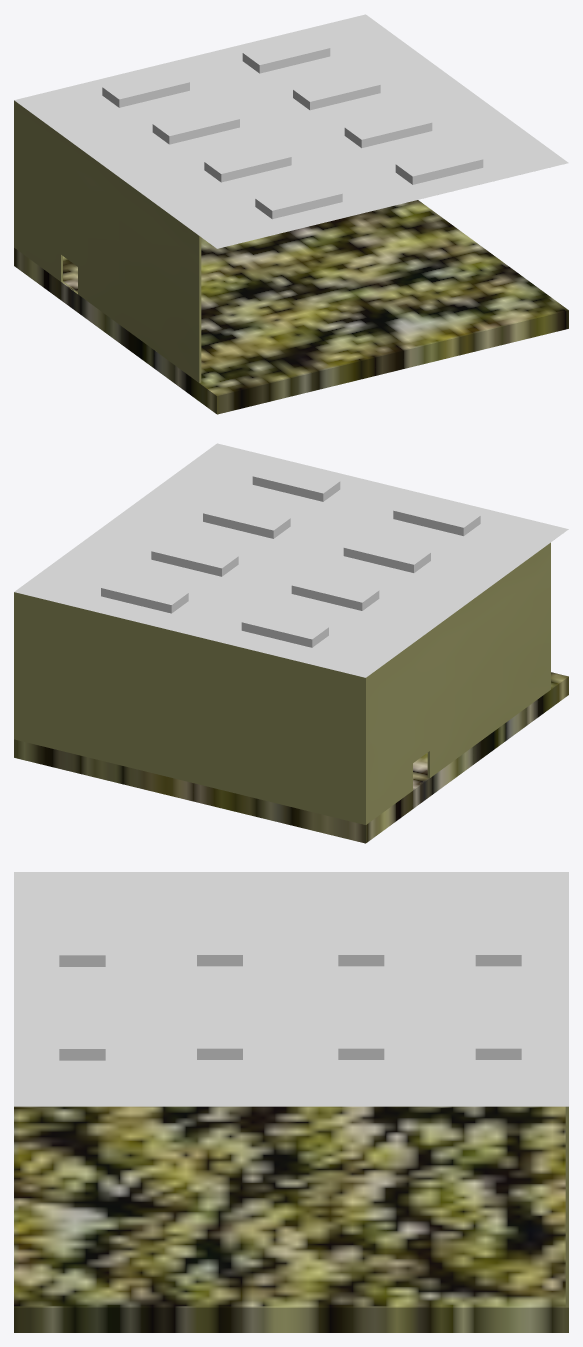
File: BackroomsLevelZero - 1.fbx
3 renders of one model, top to bottom at view 1: azimuth 30°, elevation 25°; view 2: azimuth 150°, elevation 25°; view 3: azimuth 270°, elevation 25°, orthographic. The views are drawn at different scales.
Parts seen in each view (by area): view 1: Floor.024, Floor.015, Wall.040, Cube.166, Cube.170, Cube.168, Cube.164, Cube.165, Cube.169, Cube.163, Cube.167; view 2: Floor.024, Wall.041, Wall.040, Floor.015, Cube.164, Cube.170, Cube.169, Cube.165, Cube.163, Cube.166, Cube.168, Cube.167; view 3: Floor.015, Floor.024, Cube.169, Cube.170, Cube.163, Cube.164, Cube.166, Cube.167, Cube.165, Cube.168, Wall.041.
Boxes of the visible parts, x1,y1,x2,y2 form: Floor.024: (14, 14, 568, 248); Floor.015: (14, 200, 568, 414); Wall.040: (15, 101, 201, 382); Cube.166: (242, 35, 330, 73); Cube.170: (395, 147, 483, 184); Cube.168: (344, 110, 432, 148); Cube.164: (152, 107, 239, 144); Cube.165: (204, 144, 291, 182); Cube.169: (255, 181, 342, 219); Cube.163: (102, 70, 189, 107); Cube.167: (293, 72, 380, 110); Floor.024: (14, 443, 568, 677); Wall.041: (14, 592, 366, 824); Wall.040: (367, 542, 550, 823); Floor.015: (14, 672, 568, 843); Cube.164: (291, 573, 379, 610); Cube.170: (252, 464, 340, 501); Cube.169: (393, 498, 480, 536); Cube.165: (343, 535, 430, 572); Cube.163: (241, 610, 328, 647); Cube.166: (101, 575, 188, 613); Cube.168: (203, 501, 290, 538); Cube.167: (151, 539, 238, 576); Floor.015: (14, 1106, 568, 1332); Floor.024: (14, 872, 568, 1106); Cube.169: (59, 908, 105, 966); Cube.170: (59, 1002, 105, 1060); Cube.163: (475, 908, 521, 966); Cube.164: (338, 908, 384, 966); Cube.166: (475, 1001, 521, 1059); Cube.167: (338, 1001, 384, 1059); Cube.165: (197, 908, 242, 966); Cube.168: (197, 1001, 242, 1059); Wall.041: (565, 1106, 568, 1307).
Size of the model in its own units: 2000 by 946 by 2000.
